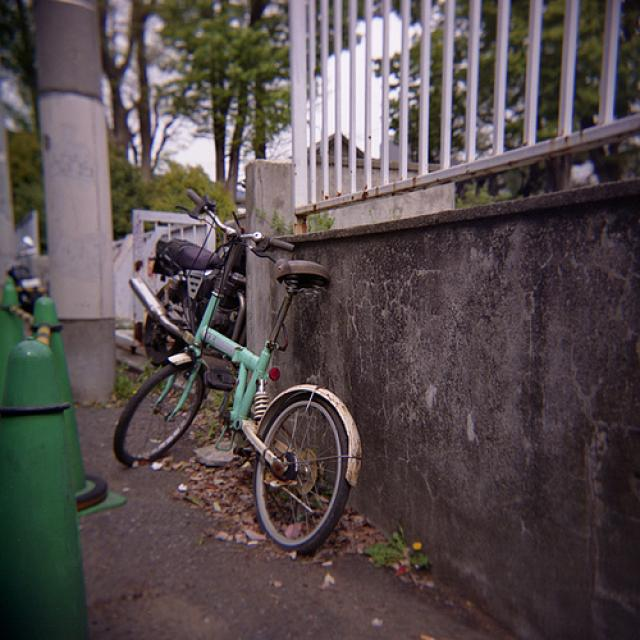motor: (126, 241, 248, 359)
